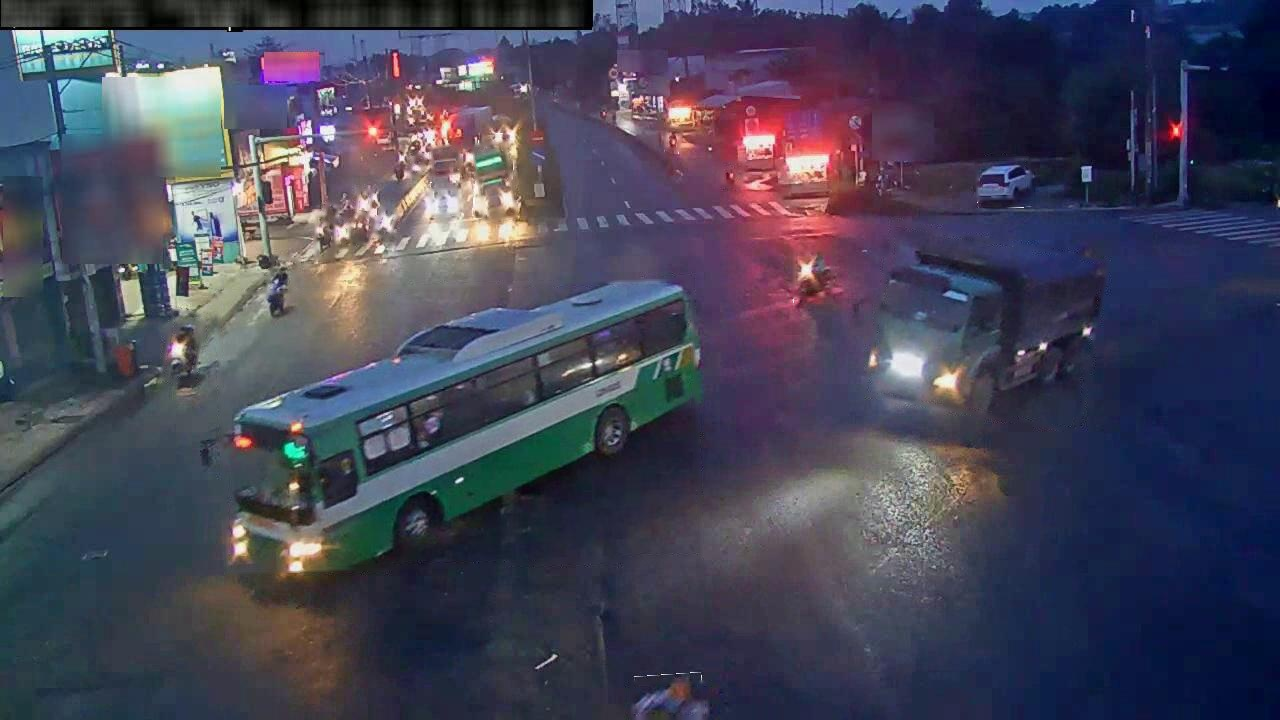Bus: (228, 280, 700, 576), (866, 250, 1104, 413), (474, 138, 517, 219), (474, 146, 516, 219)
Car: (632, 675, 708, 719), (975, 164, 1034, 206), (429, 183, 459, 215), (377, 211, 394, 235)
Motorcycle: (267, 286, 286, 317)
Motorcyclist: (632, 679, 708, 719), (795, 253, 834, 304), (266, 263, 289, 316), (351, 213, 373, 243), (316, 215, 333, 251), (721, 164, 744, 188), (335, 219, 351, 247), (354, 192, 372, 213), (667, 130, 678, 156), (324, 204, 337, 223), (410, 156, 423, 175)
Pedestrian: (177, 324, 198, 374)
Truck: (473, 146, 514, 219), (430, 147, 461, 184)
